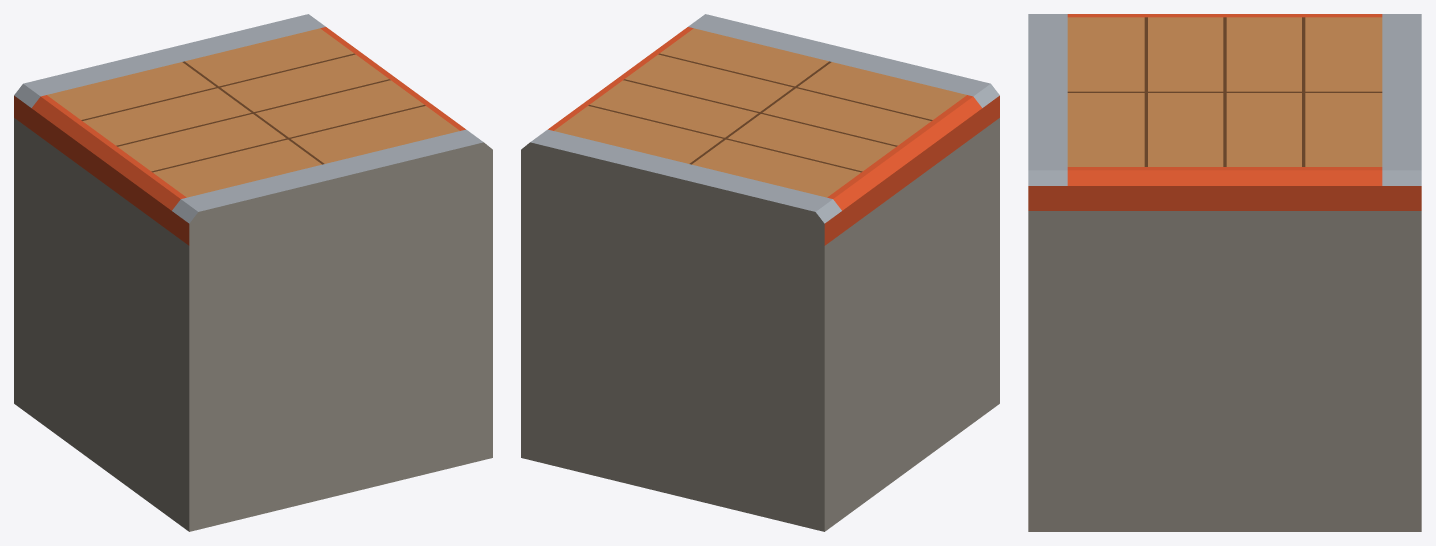
File: kit-ramp-low.glb
3 renders of one model, left to right at view 1: azimuth 30°, elevation 25°; view 2: azimuth 150°, elevation 25°; view 3: azimuth 270°, elevation 25°, orthographic. The views are drawn at different scales.
Parts seen in each view (by area): view 1: ramp.001; view 2: ramp.001; view 3: ramp.001.
Part boxes in pixels (left/top/right/bottom): ramp.001: left=14, top=14, right=492, bottom=531; ramp.001: left=521, top=14, right=999, bottom=531; ramp.001: left=1028, top=14, right=1421, bottom=531.
Bounding box in the file's own units: 1 × 1 × 1.
